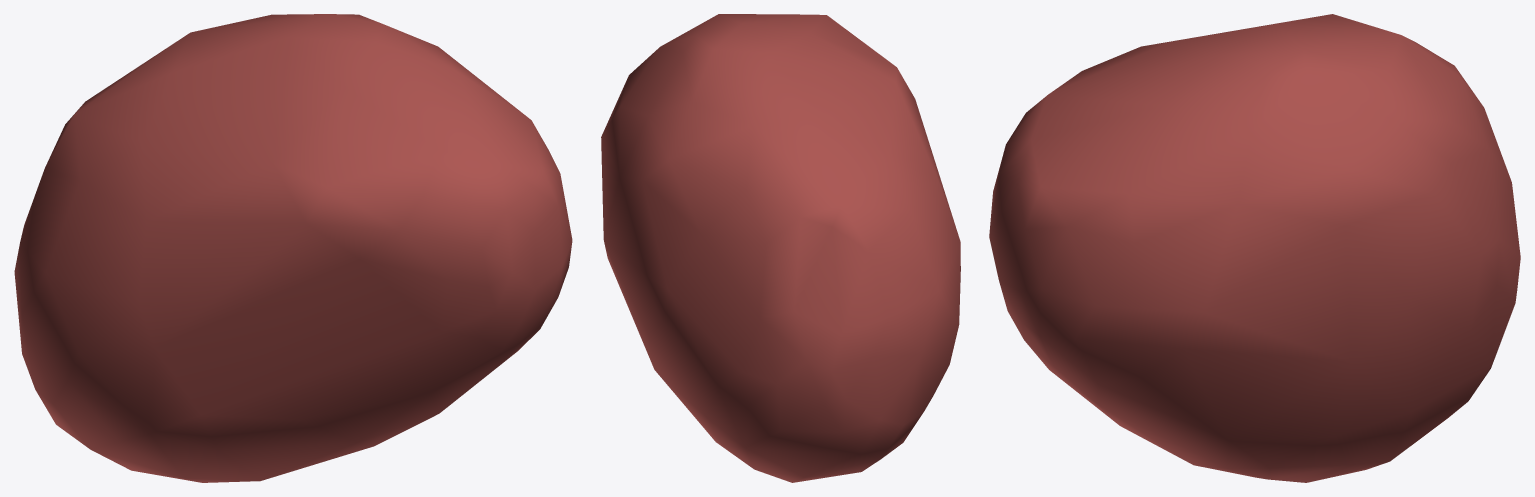
File: FMA73435.glb
The picture shows the model from 3 angles, left to right: view 1: azimuth 30°, elevation 25°; view 2: azimuth 150°, elevation 25°; view 3: azimuth 270°, elevation 25°; orthographic projection. The views are drawn at different scales.
Visible parts, largest first — view 1: FMA73435; view 2: FMA73435; view 3: FMA73435.
Part boxes in pixels (x1,y1,x2,y2): FMA73435: [14, 14, 572, 482]; FMA73435: [601, 14, 960, 482]; FMA73435: [989, 14, 1520, 482].
Bounding box in the file's own units: 0.0074 × 0.00734 × 0.00756.
